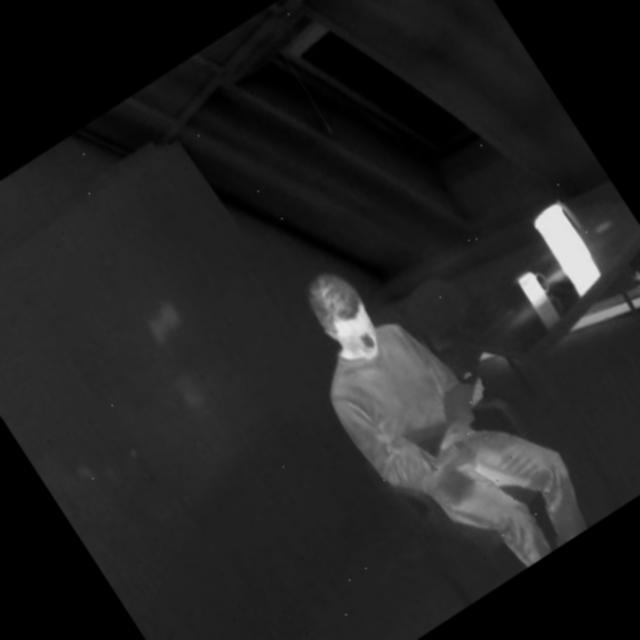person: (260, 204, 610, 610)
